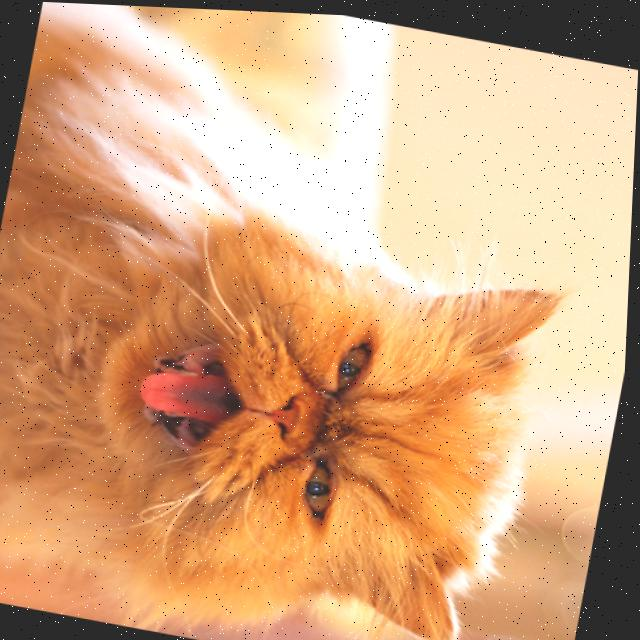Persian: (0, 0, 616, 640)
